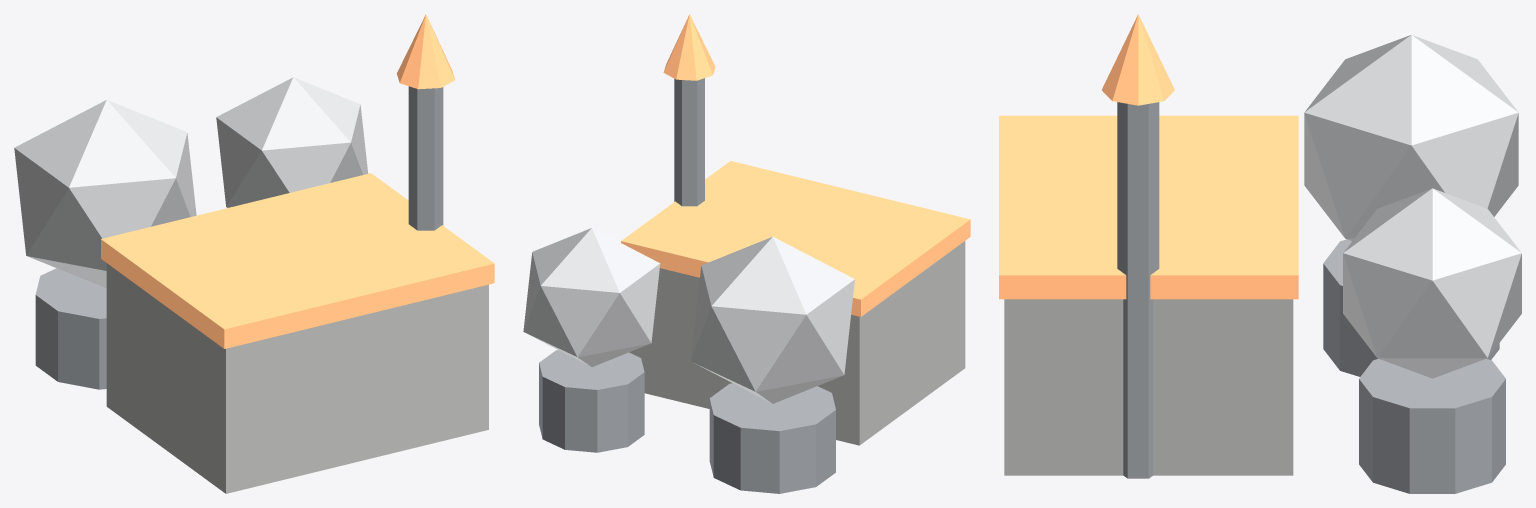
The model's file is gas.glb.
3 renders of one model, left to right at view 1: azimuth 30°, elevation 25°; view 2: azimuth 150°, elevation 25°; view 3: azimuth 270°, elevation 25°, orthographic. The views are drawn at different scales.
Parts seen in each view (by area): view 1: gas; view 2: gas; view 3: gas.
Boxes of the visible parts, box(x1,y1,x2,y2) form: gas: box(14, 14, 494, 493); gas: box(523, 14, 970, 493); gas: box(999, 14, 1521, 493).
Size of the model in its own units: 0.9135 by 0.96 by 0.9951.
